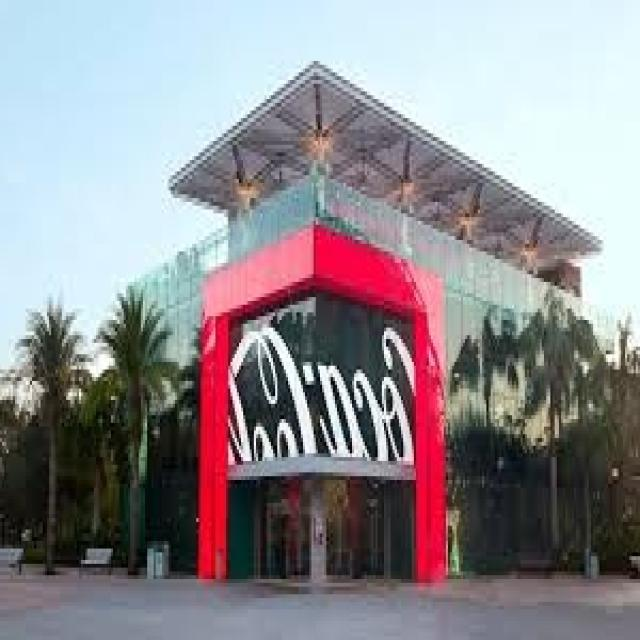coca cola: (225, 318, 424, 485)
